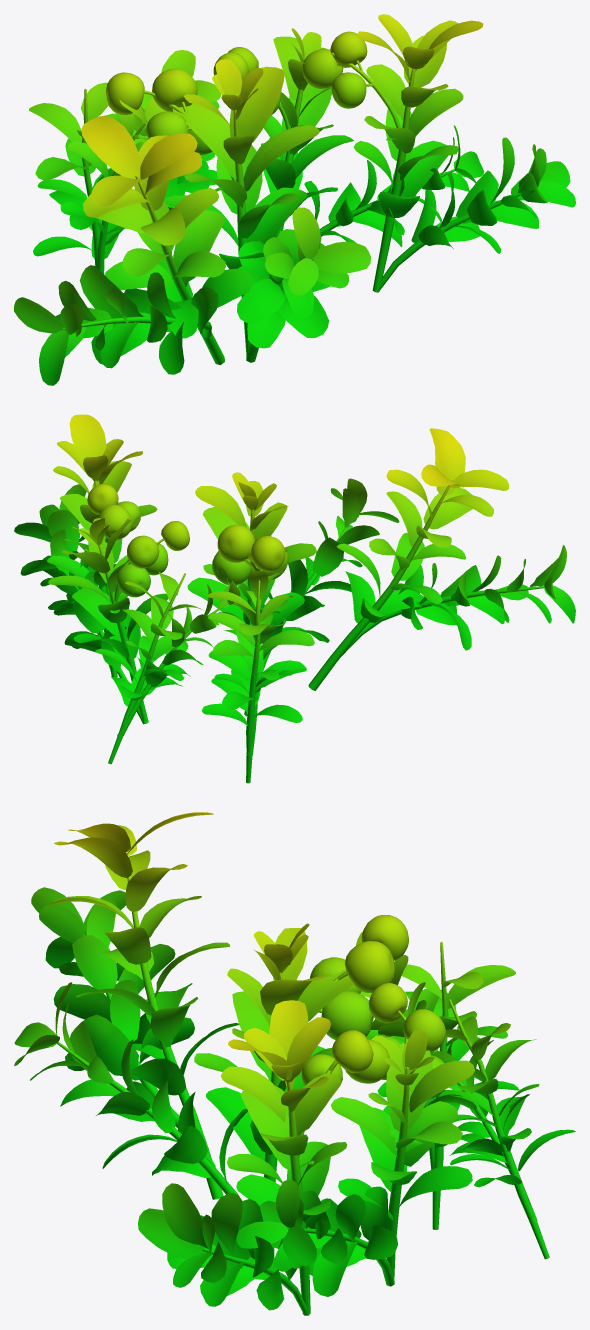
Rendered from Lingonberry_LOD0_Var7.fbx.
3 views of the same model, one above another, from view 1: azimuth 30°, elevation 25°; view 2: azimuth 150°, elevation 25°; view 3: azimuth 270°, elevation 25° (orthographic). The views are drawn at different scales.
Visible parts, largest first — view 1: _r9kw_Var7_LOD0; view 2: _r9kw_Var7_LOD0; view 3: _r9kw_Var7_LOD0.
Part boxes in pixels (x1=…): _r9kw_Var7_LOD0: x1=14, y1=14, x2=575, y2=385; _r9kw_Var7_LOD0: x1=14, y1=414, x2=575, y2=783; _r9kw_Var7_LOD0: x1=14, y1=812, x2=575, y2=1315.
Size of the model in its own units: 27.8 by 14.44 by 19.99.
